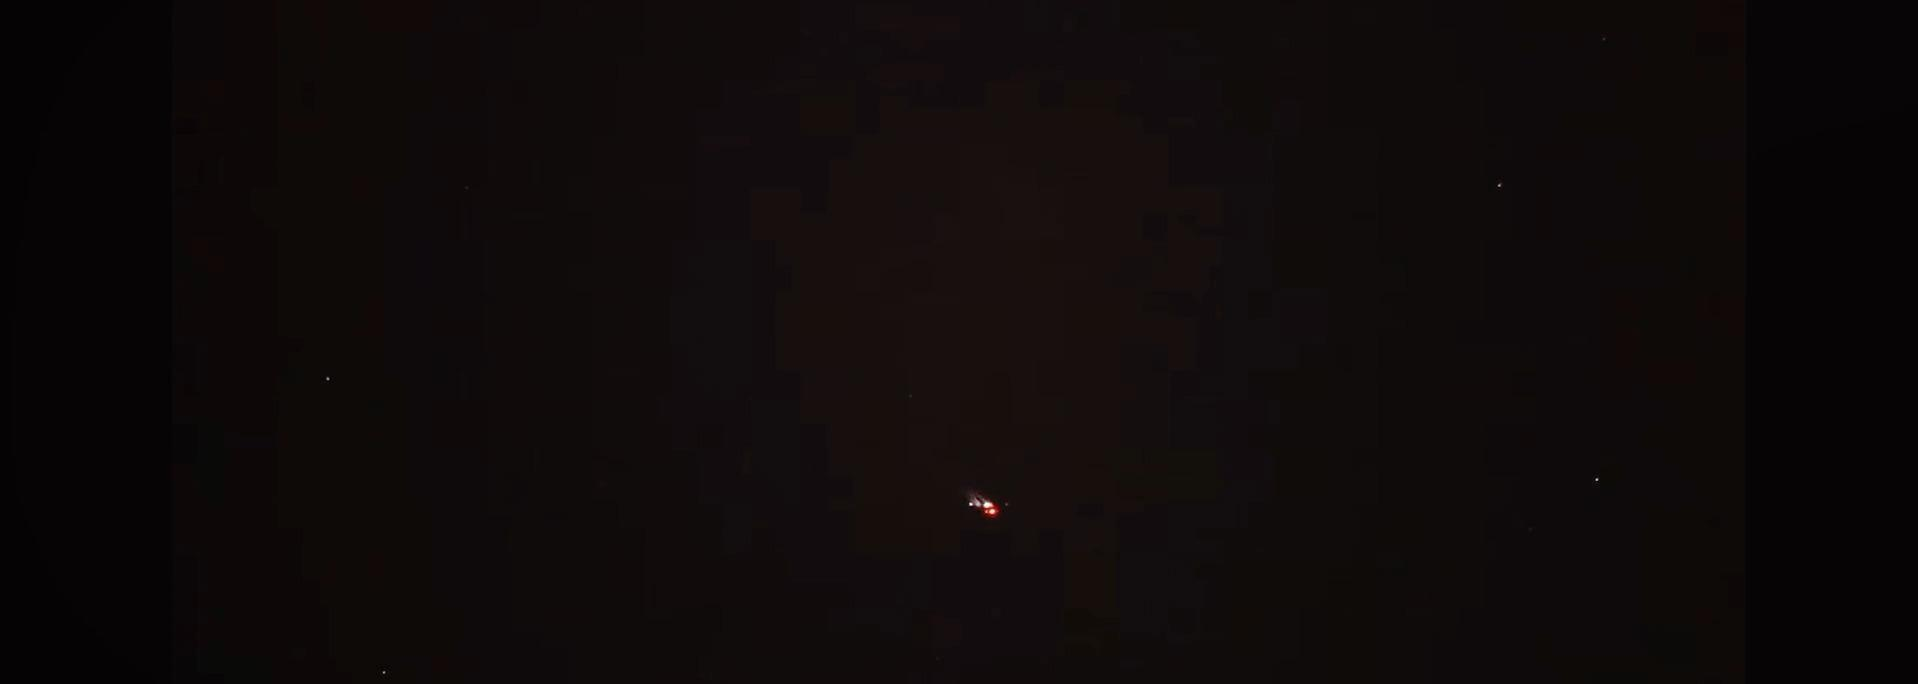Plane: (925, 475, 1045, 529)
